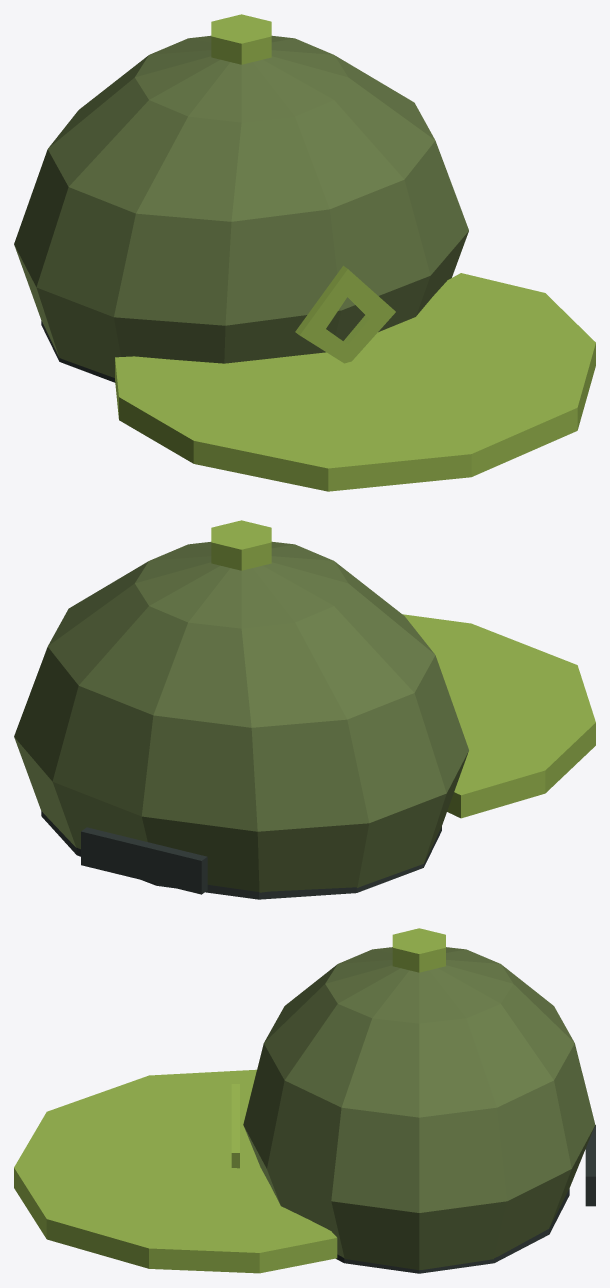
The picture shows the model from 3 angles, top to bottom: view 1: azimuth 30°, elevation 25°; view 2: azimuth 150°, elevation 25°; view 3: azimuth 270°, elevation 25°; orthographic projection. The views are drawn at different scales.
Visible parts, largest first — view 1: Copa do boné, Aba angular, Emblema frontal, Botão superior; view 2: Copa do boné, Aba angular, Fecho posterior, Botão superior, Faixa interna; view 3: Copa do boné, Aba angular, Botão superior, Faixa interna, Fecho posterior, Emblema frontal.
Boxes of the visible parts, x1,y1,x2,y2 form: Copa do boné: (14,35,468,377); Aba angular: (115,273,595,491); Emblema frontal: (295,265,395,363); Botão superior: (211,14,271,64); Copa do boné: (14,541,468,892); Aba angular: (403,614,595,818); Fecho posterior: (81,827,207,894); Botão superior: (211,520,271,570); Faixa interna: (41,811,441,899); Copa do boné: (243,947,595,1270); Aba angular: (14,1069,337,1273); Botão superior: (392,928,445,972); Faixa interna: (336,1189,569,1273); Fecho posterior: (585,1125,595,1206); Emblema frontal: (231,1084,239,1168).
Bounding box in the file's own units: 1.06 × 0.685 × 1.42.
